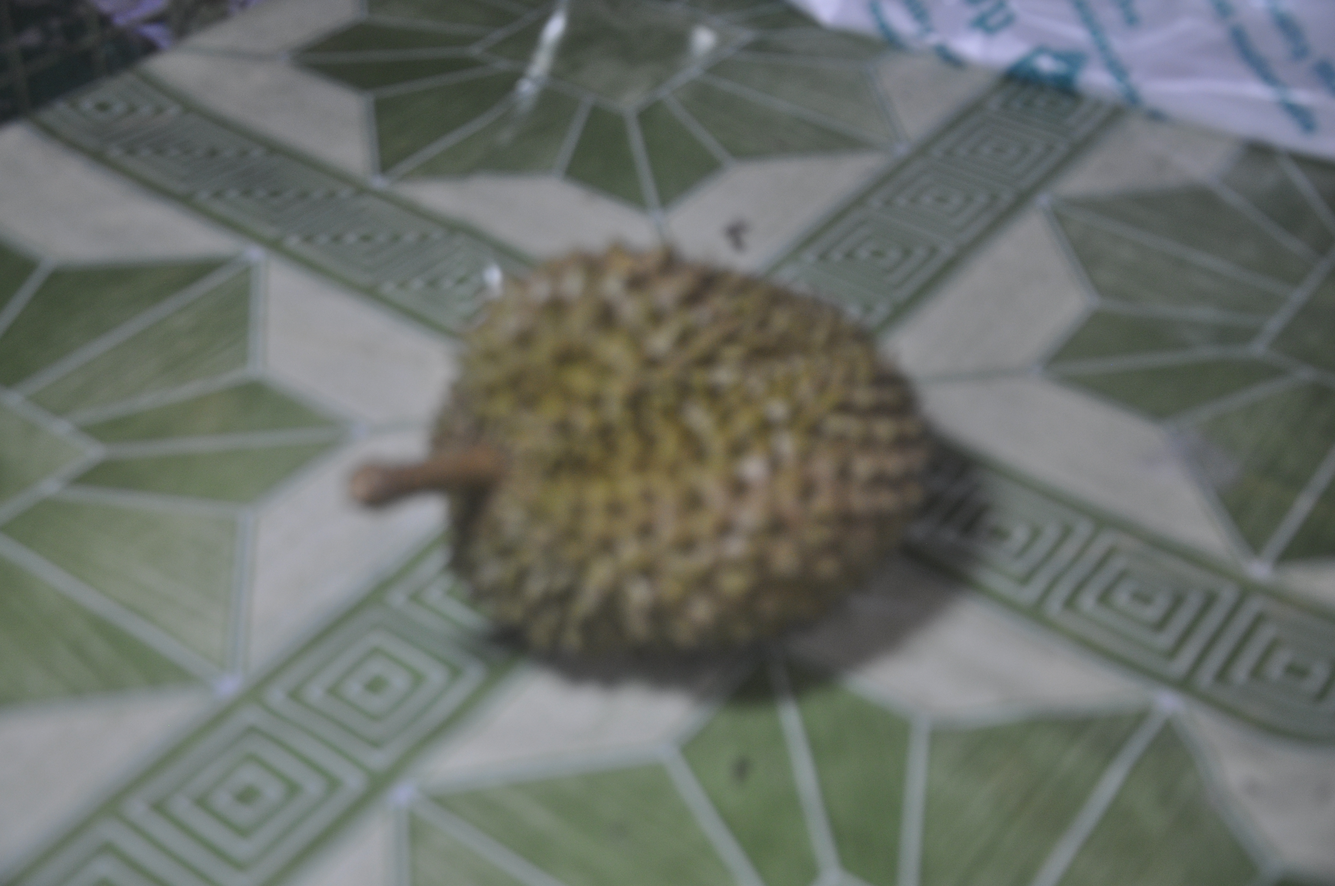mature: (355, 247, 928, 653)
